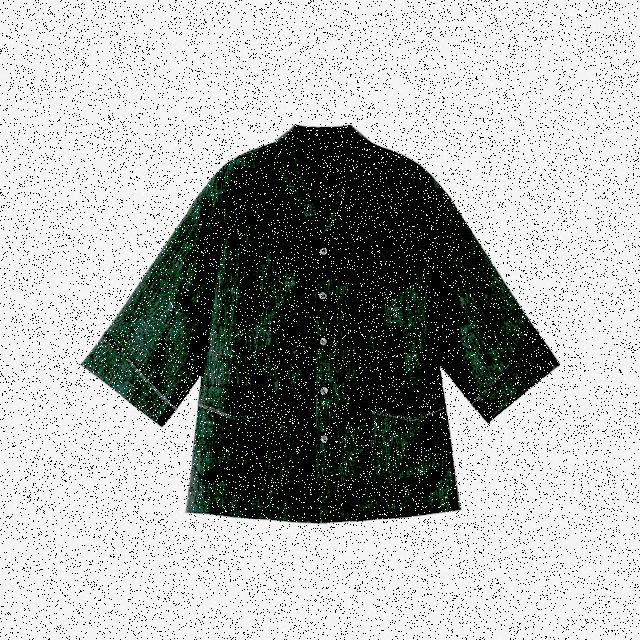Blouse_deep: (92, 122, 552, 530)
